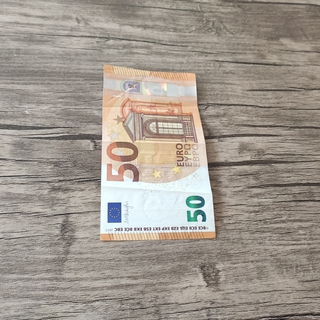50EUROFront: (98, 62, 216, 242)
